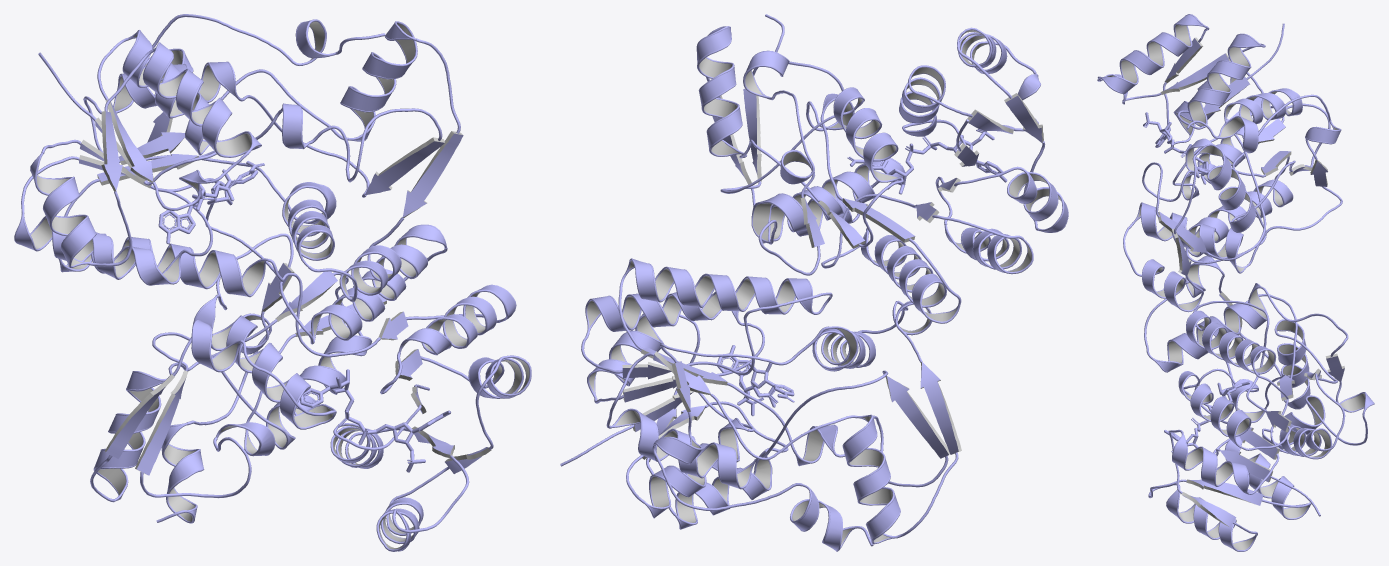
The picture shows the model from 3 angles, left to right: view 1: azimuth 30°, elevation 25°; view 2: azimuth 150°, elevation 25°; view 3: azimuth 270°, elevation 25°; orthographic projection. The views are drawn at different scales.
Visible parts, largest first — view 1: node-geom183, node-geom182, node-geom184, node-geom181, node-geom180, node-geom185; view 2: node-geom181, node-geom180, node-geom184, node-geom182, node-geom183, node-geom185; view 3: node-geom180, node-geom182, node-geom184, node-geom181, node-geom183, node-geom185.
Boxes of the visible parts, x1=… form: node-geom183: x1=14, y1=42, x2=283, y2=297; node-geom182: x1=38, y1=30, x2=336, y2=523; node-geom184: x1=58, y1=21, x2=463, y2=302; node-geom181: x1=93, y1=224, x2=447, y2=500; node-geom180: x1=282, y1=273, x2=531, y2=551; node-geom185: x1=144, y1=14, x2=385, y2=271; node-geom181: x1=606, y1=258, x2=949, y2=544; node-geom180: x1=560, y1=291, x2=828, y2=529; node-geom184: x1=696, y1=26, x2=961, y2=314; node-geom182: x1=652, y1=65, x2=1038, y2=551; node-geom183: x1=821, y1=27, x2=1068, y2=323; node-geom185: x1=743, y1=14, x2=905, y2=275; node-geom180: x1=1148, y1=301, x2=1320, y2=551; node-geom182: x1=1122, y1=23, x2=1374, y2=449; node-geom184: x1=1123, y1=88, x2=1330, y2=312; node-geom181: x1=1186, y1=293, x2=1345, y2=459; node-geom183: x1=1097, y1=14, x2=1293, y2=263; node-geom185: x1=1123, y1=94, x2=1342, y2=273.
Bounding box in the file's own units: 71.41 × 80.53 × 46.49.
